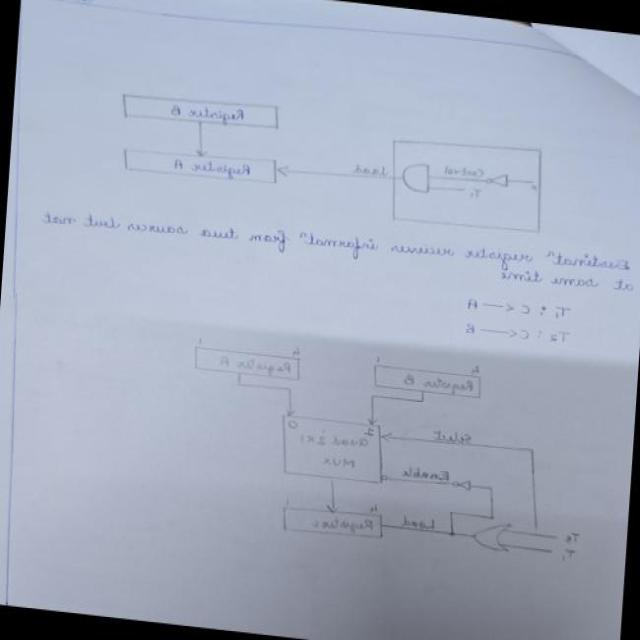Figure Detection - v3 Dataset Version2: (167, 312, 598, 574), (90, 64, 566, 250)
